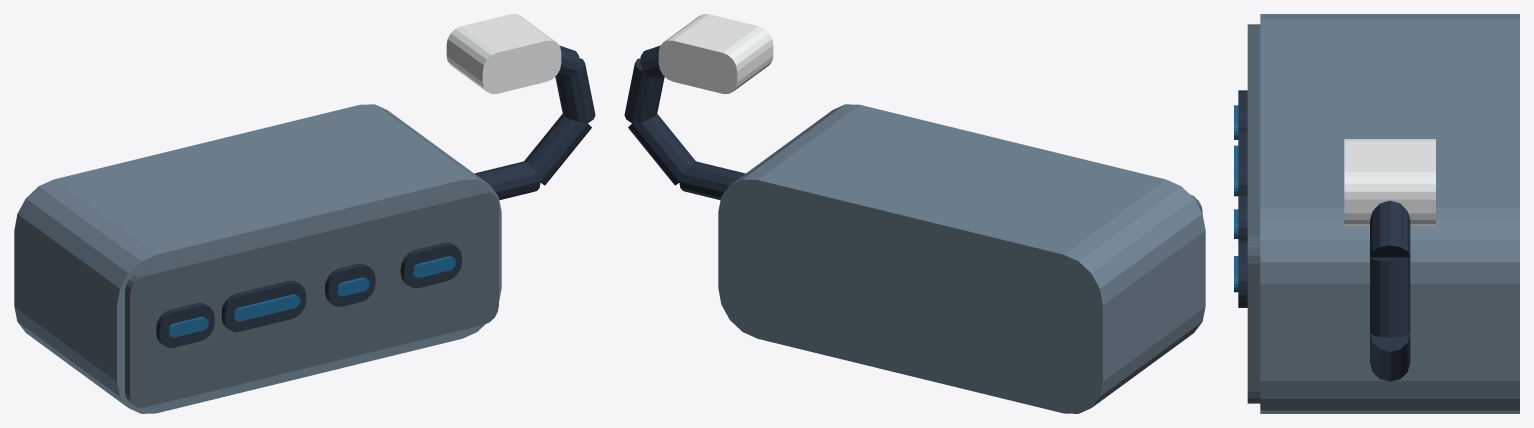
Rendered from adapterhub.glb.
3 renders of one model, left to right at view 1: azimuth 30°, elevation 25°; view 2: azimuth 150°, elevation 25°; view 3: azimuth 270°, elevation 25°, orthographic. The views are drawn at different scales.
Parts seen in each view (by area): view 1: shell, face, plug, port 1, cable1, port 3, cable2, cable0, port 0, port 2, port tongue 1, port tongue 3 (+2 smaller); view 2: shell, plug, cable1, cable2, cable0, cable3; view 3: shell, plug, face, cable2, cable3, cable1, port 3, port 1, port 2, port 0.
Part boxes in pixels (x1,y1,x2,y2): shell: [14, 104, 501, 413]; face: [125, 189, 498, 407]; plug: [446, 14, 561, 93]; port 1: [221, 280, 306, 331]; cable1: [524, 114, 591, 185]; port 3: [400, 242, 461, 288]; cable2: [555, 58, 595, 123]; cable0: [474, 161, 540, 200]; port 0: [156, 303, 214, 347]; port 2: [325, 263, 375, 306]; port tongue 1: [233, 294, 300, 321]; port tongue 3: [412, 256, 455, 277]; shell: [718, 104, 1205, 413]; plug: [658, 14, 773, 93]; cable1: [628, 114, 695, 185]; cable2: [624, 58, 664, 123]; cable0: [679, 161, 745, 200]; cable3: [640, 45, 664, 78]; shell: [1260, 14, 1519, 413]; plug: [1344, 139, 1435, 225]; face: [1247, 24, 1260, 403]; cable2: [1370, 257, 1410, 337]; cable3: [1370, 200, 1410, 257]; cable1: [1370, 333, 1410, 381]; port 3: [1238, 241, 1247, 307]; port 1: [1238, 130, 1247, 194]; port 2: [1238, 194, 1247, 241]; port 0: [1238, 90, 1247, 130].
Bounding box in the file's own units: 2.02 × 0.895 × 0.749.
